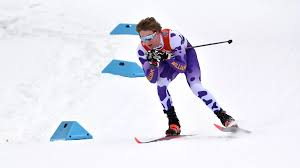skier: (132, 14, 253, 144)
